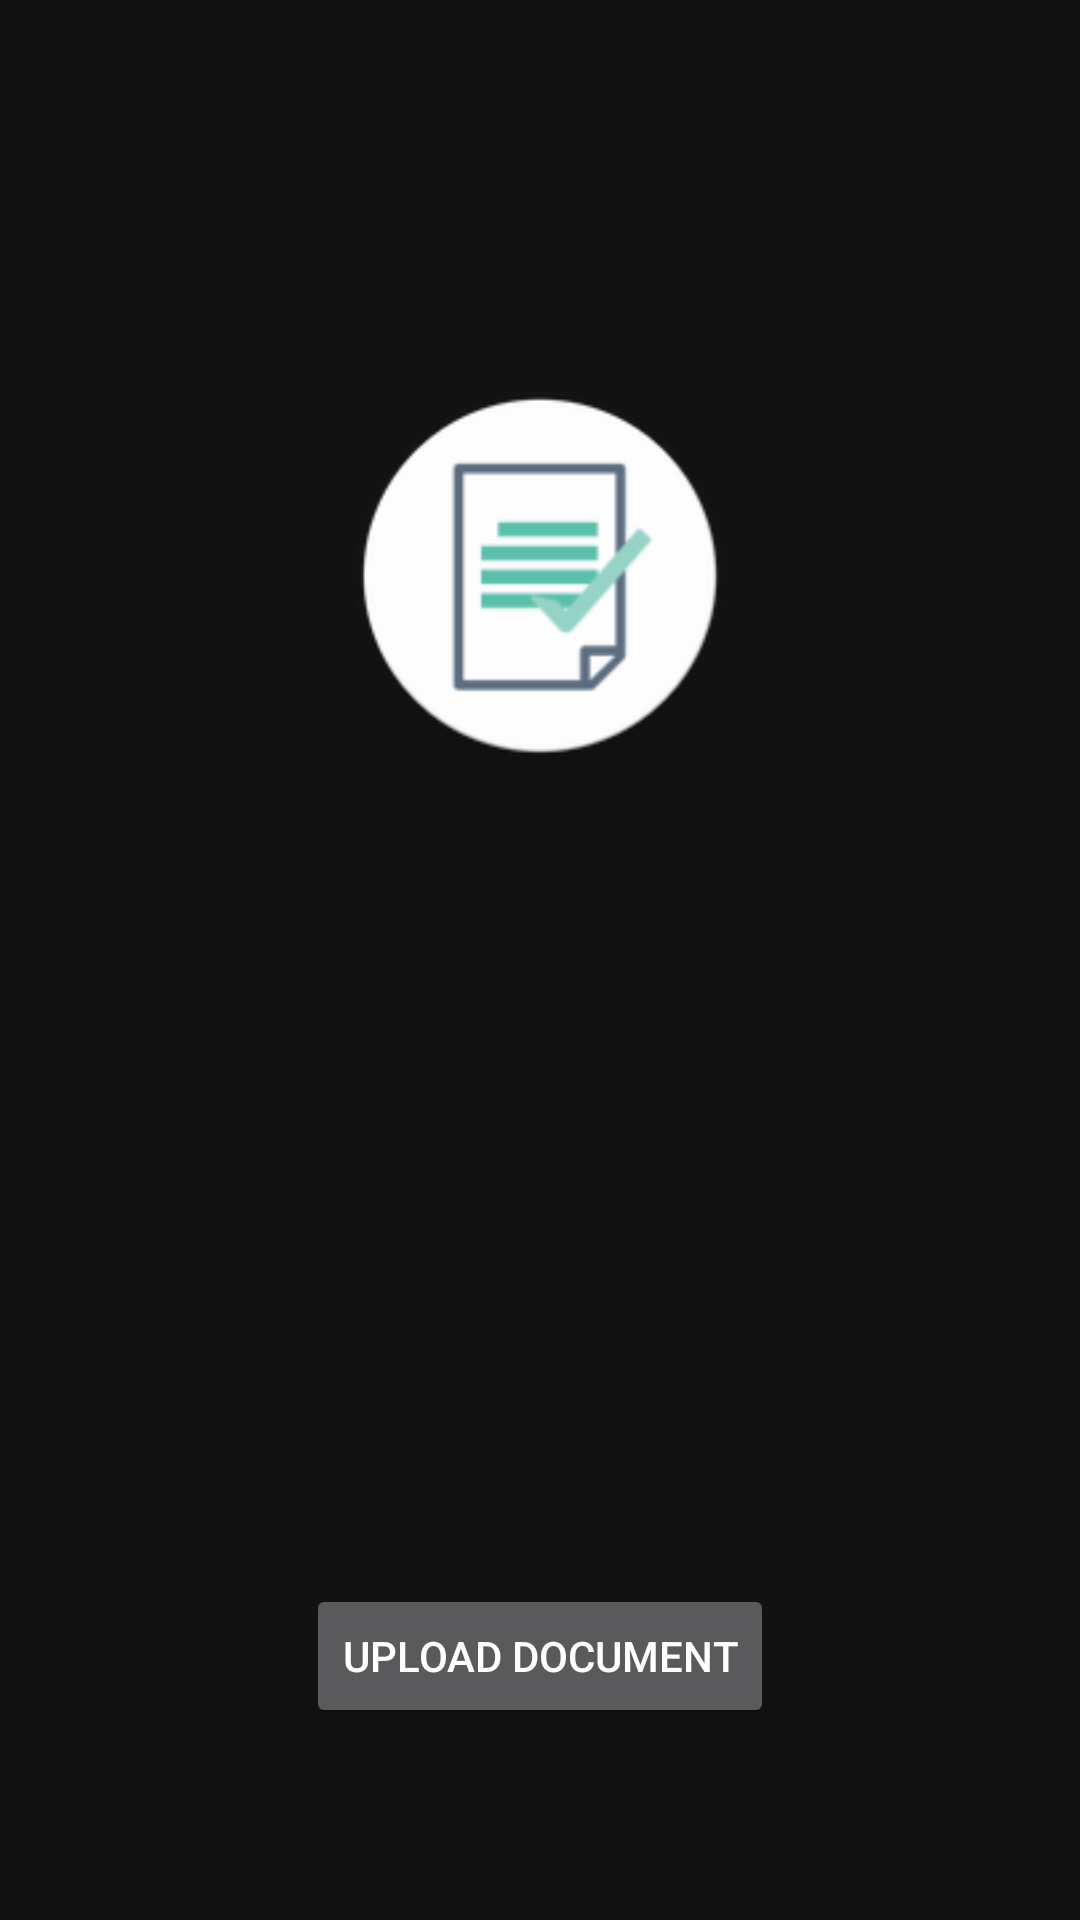

Icon click points for this 1080w x 1920h phone screenshot, format [x,y]:
document round: [540,575]
